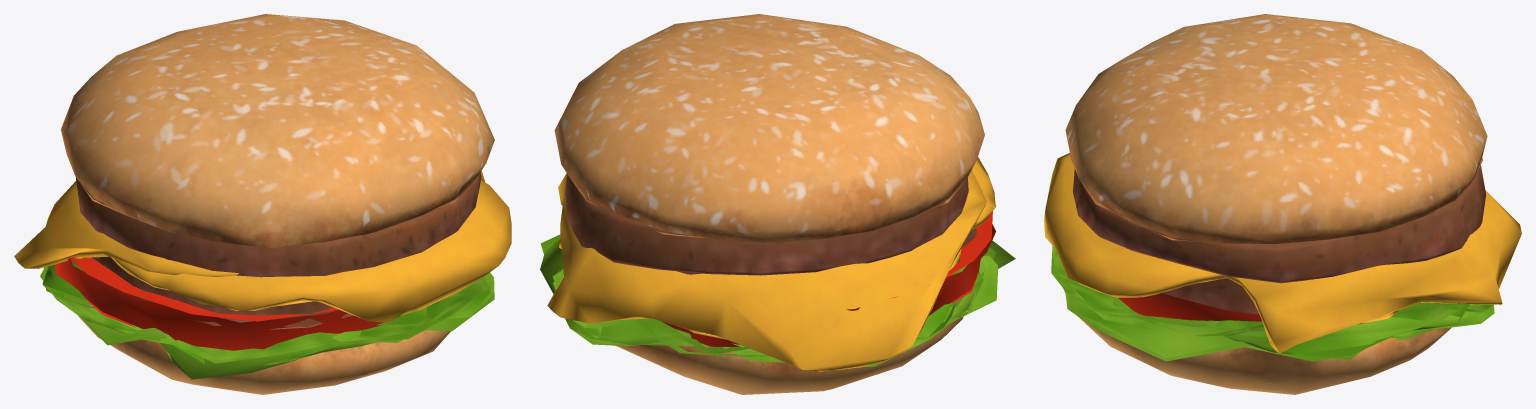
Rendered from burger.obj.
3 renders of one model, left to right at view 1: azimuth 30°, elevation 25°; view 2: azimuth 150°, elevation 25°; view 3: azimuth 270°, elevation 25°, orthographic.
Parts seen in each view (by area): view 1: top_bread.001_0_bread.001, cheese.001_cheese_0_cheese, meat_meat_0_meat, tomato_tomato_0_tomato, bottom_bread_0_bread, cheese_cheese_0_cheese, salat.002_salat_0_salat, salat_salat_0_salat, salat.001_salat_0_salat, meat.001_meat_0_meat; view 2: top_bread.001_0_bread.001, cheese_cheese_0_cheese, meat_meat_0_meat, bottom_bread_0_bread, salat_salat_0_salat, tomato_tomato_0_tomato, salat.001_salat_0_salat, salat.002_salat_0_salat, cheese.001_cheese_0_cheese; view 3: top_bread.001_0_bread.001, cheese_cheese_0_cheese, meat_meat_0_meat, bottom_bread_0_bread, cheese.001_cheese_0_cheese, salat_salat_0_salat, salat.001_salat_0_salat, salat.002_salat_0_salat, tomato_tomato_0_tomato, meat.001_meat_0_meat.
Boxes of the visible parts, box(x1,y1,x2,y2) form: top_bread.001_0_bread.001: box(61, 14, 494, 248); cheese.001_cheese_0_cheese: box(111, 180, 511, 322); meat_meat_0_meat: box(76, 172, 480, 277); tomato_tomato_0_tomato: box(54, 208, 400, 350); bottom_bread_0_bread: box(78, 316, 450, 394); cheese_cheese_0_cheese: box(14, 171, 484, 276); salat.002_salat_0_salat: box(40, 270, 489, 365); salat_salat_0_salat: box(42, 260, 402, 379); salat.001_salat_0_salat: box(64, 272, 494, 350); meat.001_meat_0_meat: box(92, 256, 353, 329); top_bread.001_0_bread.001: box(554, 14, 984, 242); cheese_cheese_0_cheese: box(547, 170, 986, 371); meat_meat_0_meat: box(565, 174, 968, 275); bottom_bread_0_bread: box(616, 316, 963, 394); salat_salat_0_salat: box(540, 234, 1015, 353); tomato_tomato_0_tomato: box(662, 211, 995, 346); salat.001_salat_0_salat: box(625, 253, 998, 356); salat.002_salat_0_salat: box(552, 247, 996, 366); cheese.001_cheese_0_cheese: box(972, 157, 996, 229); top_bread.001_0_bread.001: box(1065, 14, 1487, 243); cheese_cheese_0_cheese: box(1222, 190, 1521, 353); meat_meat_0_meat: box(1073, 163, 1485, 283); bottom_bread_0_bread: box(1063, 289, 1451, 394); cheese.001_cheese_0_cheese: box(1044, 153, 1227, 297); salat_salat_0_salat: box(1113, 297, 1494, 361); salat.001_salat_0_salat: box(1064, 274, 1469, 361); salat.002_salat_0_salat: box(1051, 245, 1493, 338); tomato_tomato_0_tomato: box(1118, 293, 1261, 321); meat.001_meat_0_meat: box(1162, 278, 1259, 314).
Size of the model in its own units: 0.7031 by 0.4539 by 0.6958.
